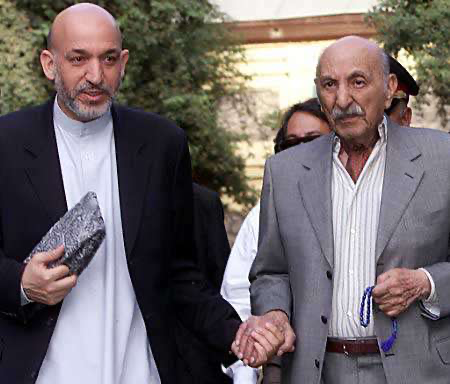Face: (49, 29, 124, 123), (315, 58, 390, 152), (281, 108, 330, 155)
